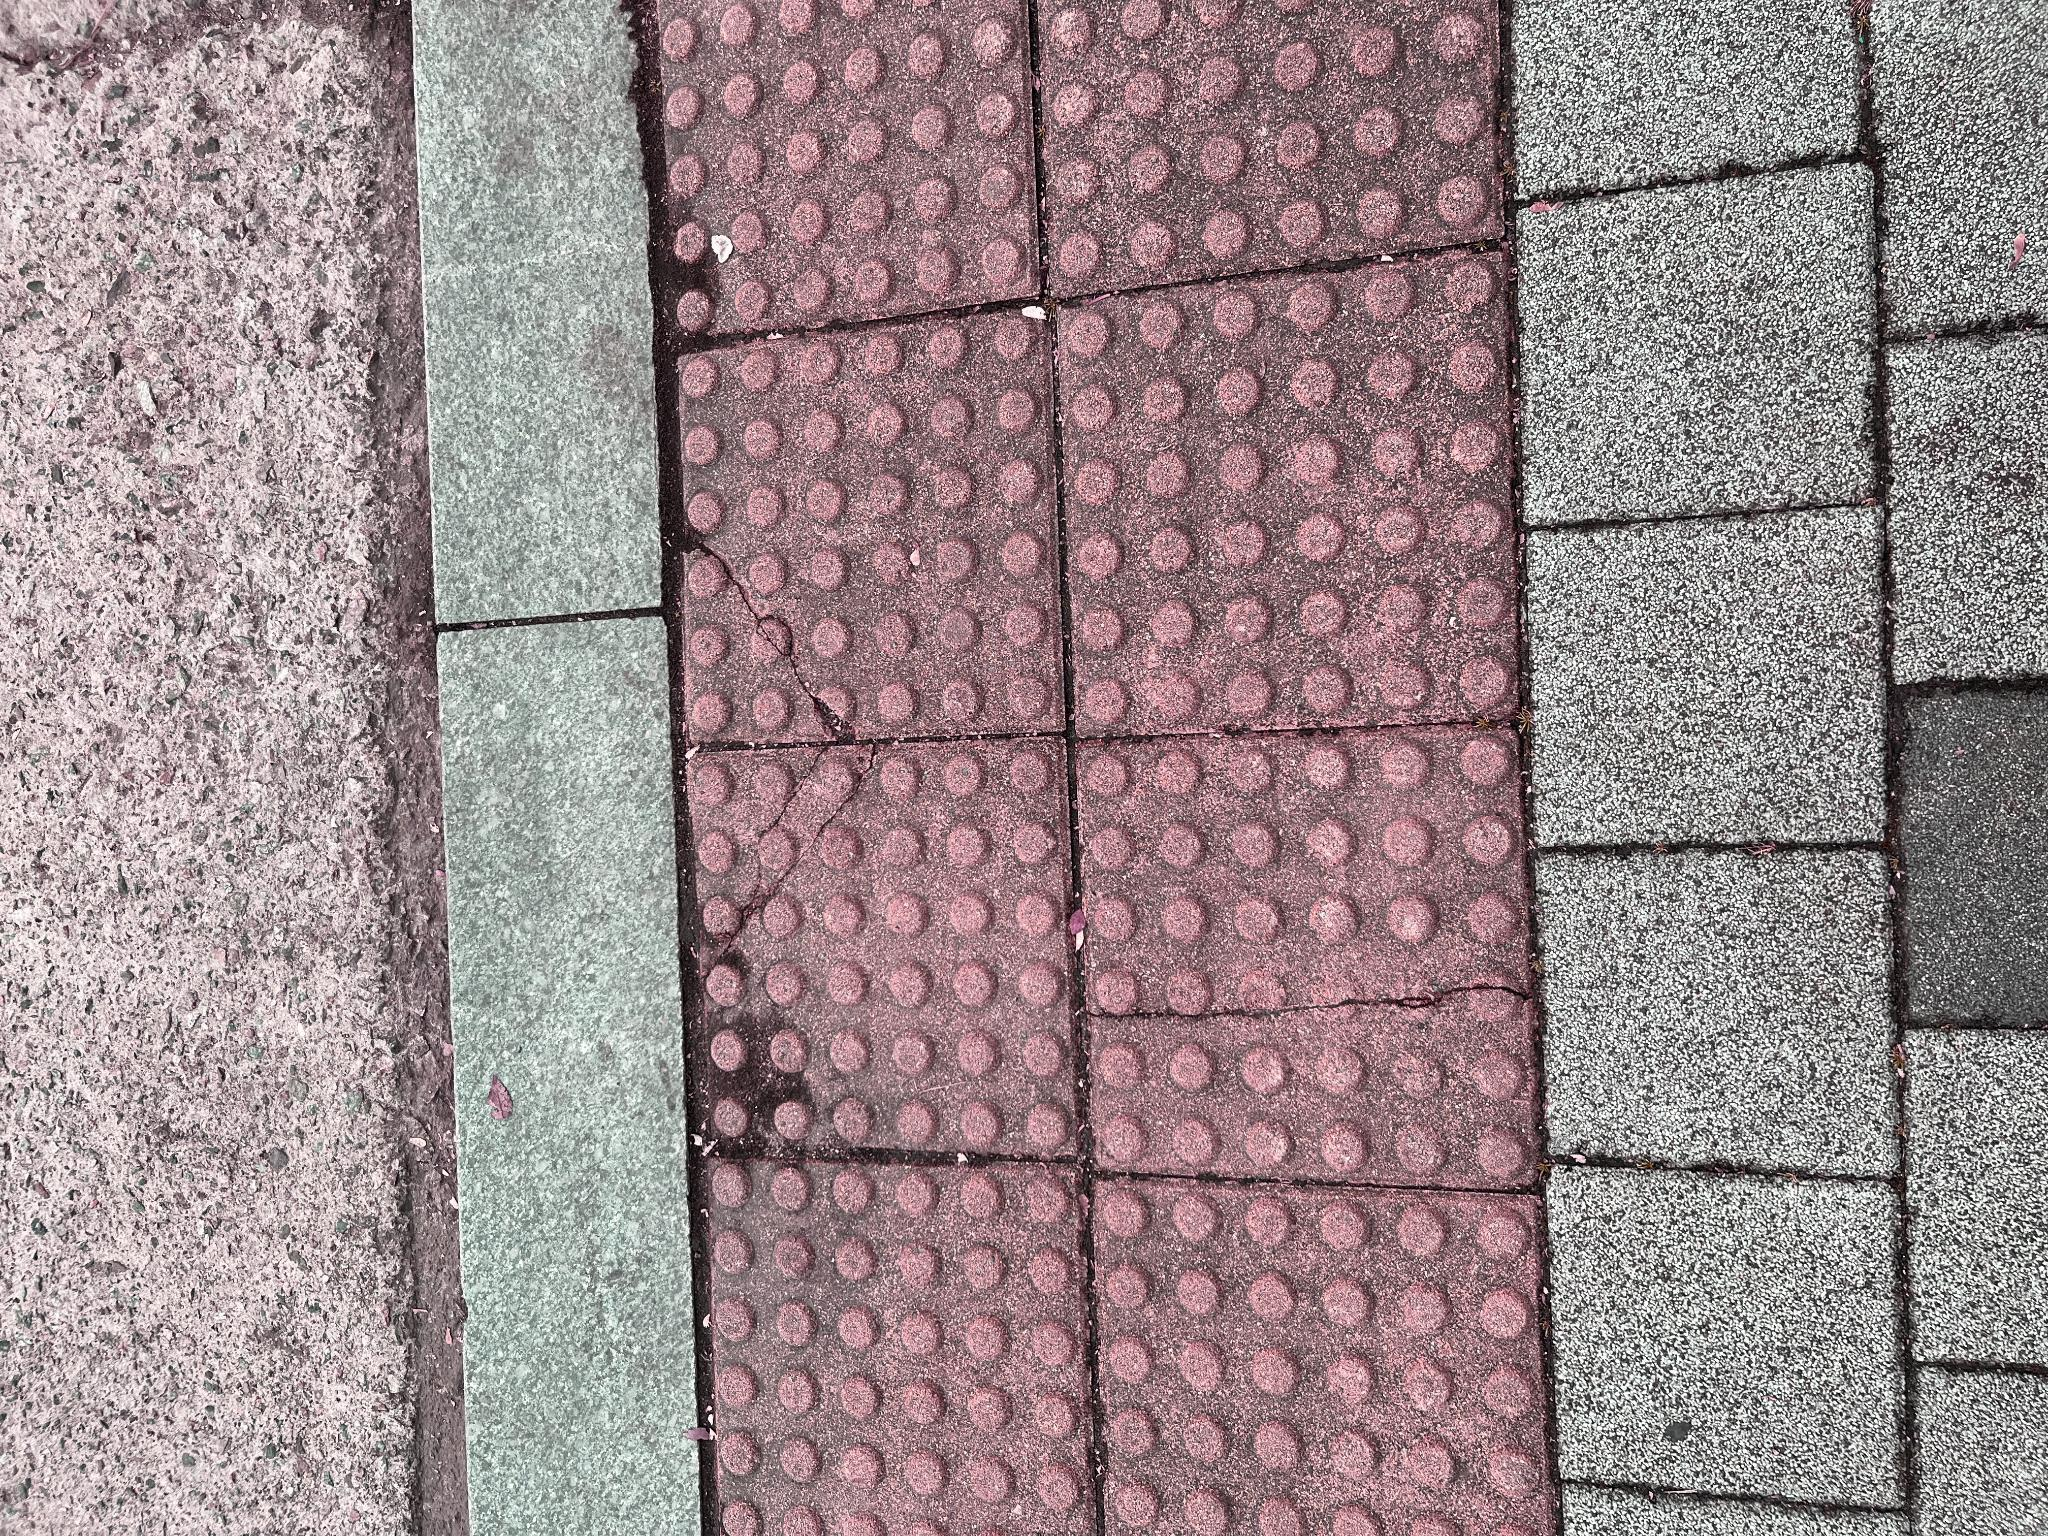Stop block broken: (352, 1075, 805, 1534), (792, 679, 1229, 1063)
Stop block normal: (803, 1052, 1280, 1517), (382, 686, 797, 1075)
